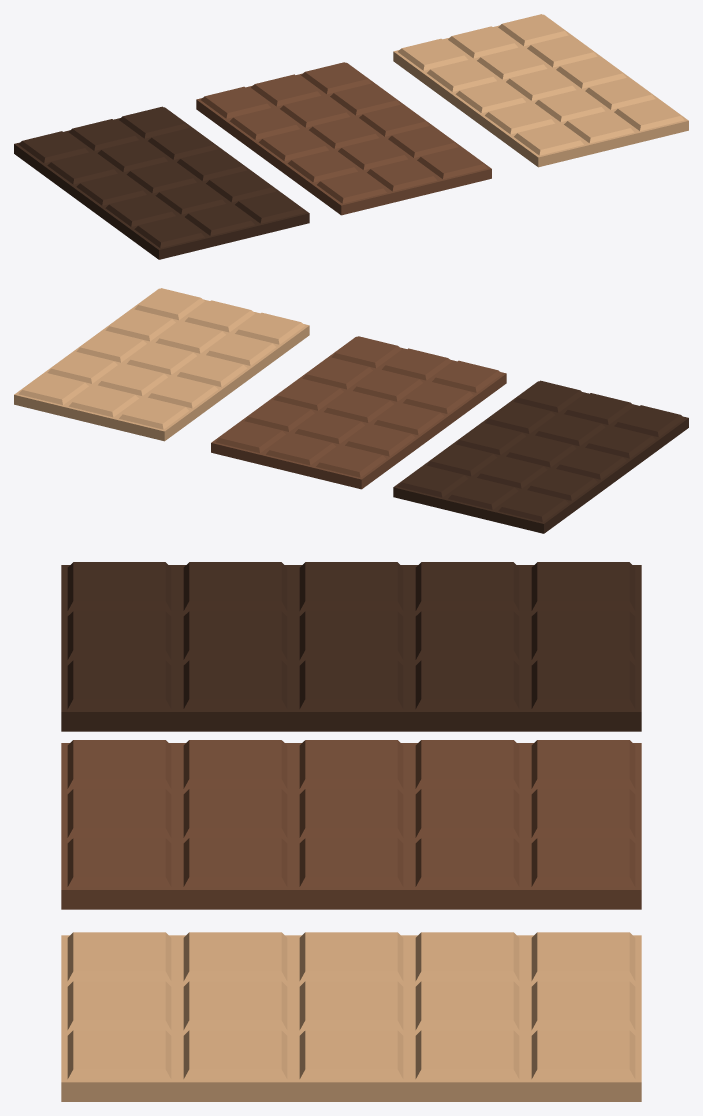
The model's file is Chocolate Bars.fbx.
3 views of the same model, one above another, from view 1: azimuth 30°, elevation 25°; view 2: azimuth 150°, elevation 25°; view 3: azimuth 270°, elevation 25° (orthographic). The views are drawn at different scales.
Visible parts, largest first — view 1: Chocolate Bar, Chocolate Bar.001, Chocolate Bar.002; view 2: Chocolate Bar, Chocolate Bar.001, Chocolate Bar.002; view 3: Chocolate Bar, Chocolate Bar.001, Chocolate Bar.002.
Part boxes in pixels (left/top/right/bottom): Chocolate Bar: left=196, top=62, right=491, bottom=215; Chocolate Bar.001: left=14, top=106, right=309, bottom=259; Chocolate Bar.002: left=393, top=14, right=688, bottom=167; Chocolate Bar: left=211, top=336, right=506, bottom=489; Chocolate Bar.001: left=393, top=380, right=688, bottom=533; Chocolate Bar.002: left=14, top=288, right=309, bottom=441; Chocolate Bar: left=61, top=740, right=641, bottom=909; Chocolate Bar.001: left=61, top=562, right=641, bottom=731; Chocolate Bar.002: left=61, top=932, right=641, bottom=1101.
Bounding box in the file's own units: 2109 × 52.83 × 1000.
